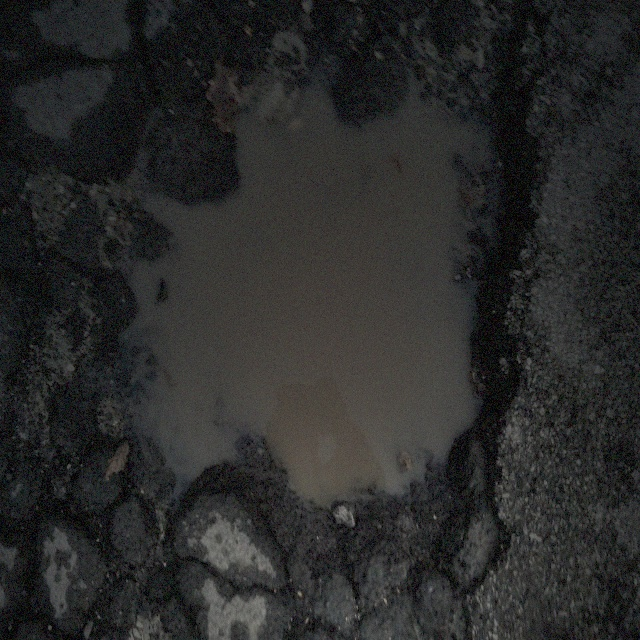pothole: (107, 35, 542, 617)
